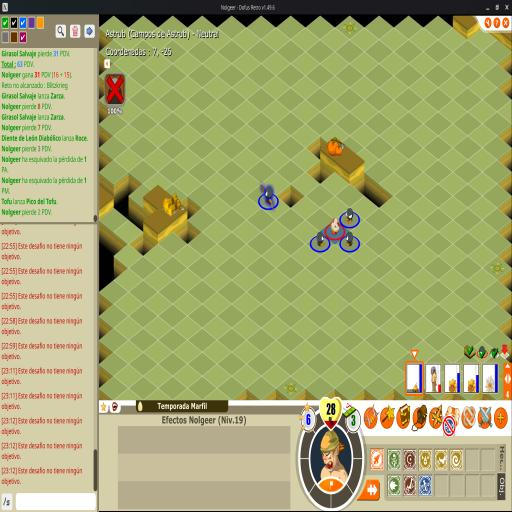Enemigos: (260, 183, 275, 210), (344, 232, 355, 248), (316, 231, 326, 248), (344, 208, 354, 224)
Personaje: (330, 218, 342, 236)
